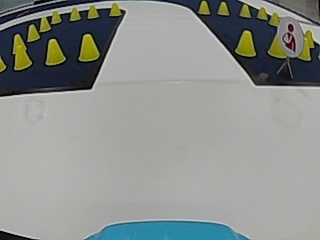cone: (78, 33, 100, 62), (13, 36, 32, 69), (44, 38, 66, 65), (235, 30, 256, 57), (267, 32, 285, 58), (27, 22, 40, 40), (109, 3, 122, 17), (197, 1, 210, 14), (69, 7, 81, 21), (87, 5, 99, 19), (40, 16, 51, 31), (239, 4, 251, 17), (217, 2, 229, 15), (268, 11, 279, 25), (256, 6, 267, 19), (51, 10, 61, 23), (0, 54, 6, 71)
patient: (280, 17, 301, 54)
